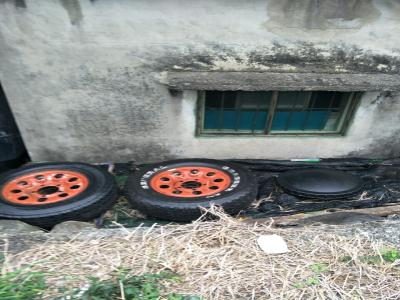tire: (120, 157, 260, 225), (1, 160, 122, 231)
